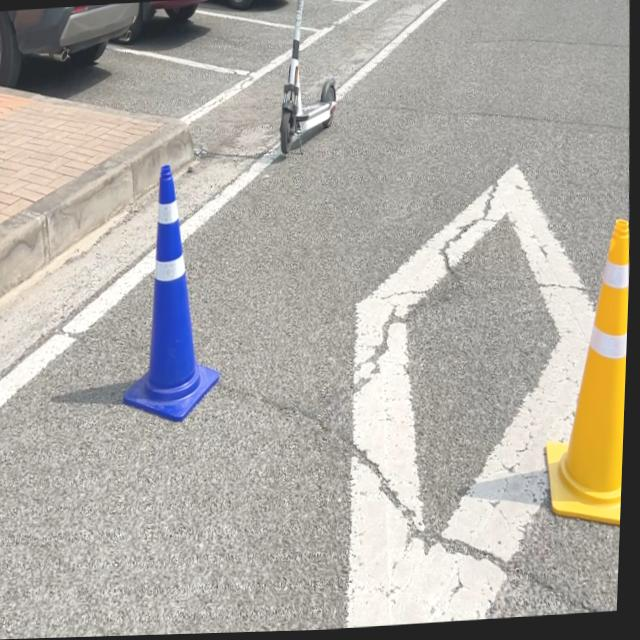b_rub: (126, 163, 222, 422)
y_rub: (550, 222, 631, 528)
